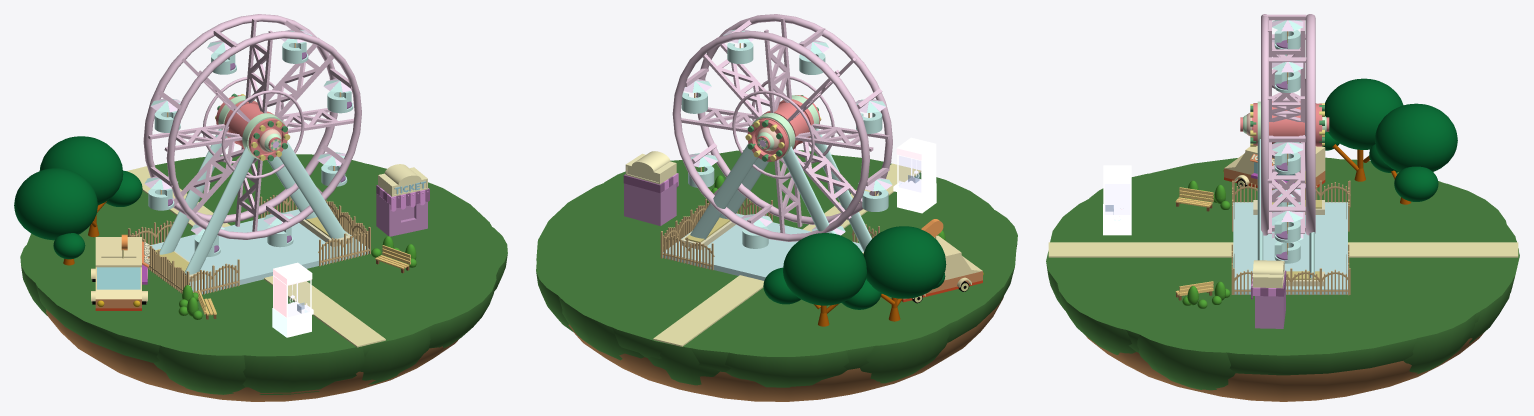
3 views of the same model, side by side, from view 1: azimuth 30°, elevation 25°; view 2: azimuth 150°, elevation 25°; view 3: azimuth 270°, elevation 25° (orthographic).
Parts seen in each view (by area): view 1: hemisphere_10, hemisphere_9, hemisphere_6, hemisphere_5, box_305, circularRing_98, hemisphere_11, hemisphere_4, hemisphere_0, hemisphere_372, hemisphere_7, circularRing_99 (+30 smaller); view 2: hemisphere_10, hemisphere_1, hemisphere_2, hemisphere_0, hemisphere_4, hemisphere_3, hemisphere_11, circularRing_99, hemisphere_359, hemisphere_372, hemisphere_9, box_305 (+30 smaller); view 3: hemisphere_10, hemisphere_4, hemisphere_6, hemisphere_0, hemisphere_9, hemisphere_8, hemisphere_11, box_305, hemisphere_3, hemisphere_359, hemisphere_5, hemisphere_1 (+16 smaller).
Boxes of the visible parts, x1,y1,x2,y2 form: hemisphere_10: (25,155,500,362); hemisphere_9: (95,205,449,394); hemisphere_6: (231,217,496,348); hemisphere_5: (128,283,325,394); box_305: (150,209,368,294); circularRing_98: (166,31,361,239); hemisphere_11: (46,309,458,401); hemisphere_4: (96,155,435,304); hemisphere_0: (198,154,384,223); hemisphere_372: (14,168,97,222); hemisphere_7: (218,284,440,384); circularRing_99: (143,14,337,223); hemisphere_10: (536,153,1016,372); hemisphere_1: (612,269,843,385); hemisphere_2: (749,287,962,383); hemisphere_0: (536,223,722,332); hemisphere_4: (547,193,891,360); hemisphere_3: (650,261,913,387); hemisphere_11: (568,297,1003,401); circularRing_99: (672,31,869,241); hemisphere_359: (783,233,866,288); hemisphere_372: (863,226,946,281); hemisphere_9: (646,162,1005,303); box_305: (663,213,863,280); hemisphere_10: (1047,157,1519,375); hemisphere_4: (1171,191,1515,343); hemisphere_6: (1057,223,1324,354); hemisphere_0: (1285,257,1483,374); hemisphere_9: (1050,170,1403,319); hemisphere_8: (1134,264,1298,390); hemisphere_11: (1085,332,1484,401); box_305: (1233,202,1347,294); hemisphere_3: (1315,175,1508,281); hemisphere_359: (1375,103,1457,157); hemisphere_5: (1083,170,1257,258); hemisphere_1: (1348,202,1518,269).
Size of the model in its own units: 66 by 51.04 by 66.17.
